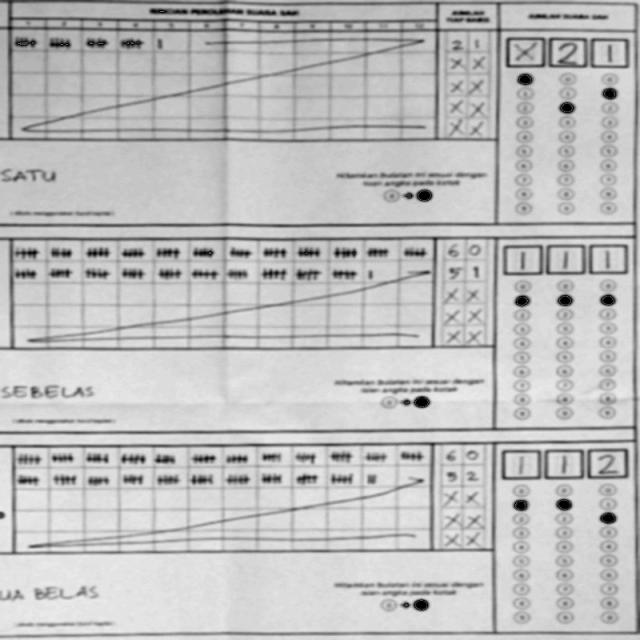Suara: (498, 240, 626, 274), (497, 447, 622, 479), (504, 34, 622, 64)
